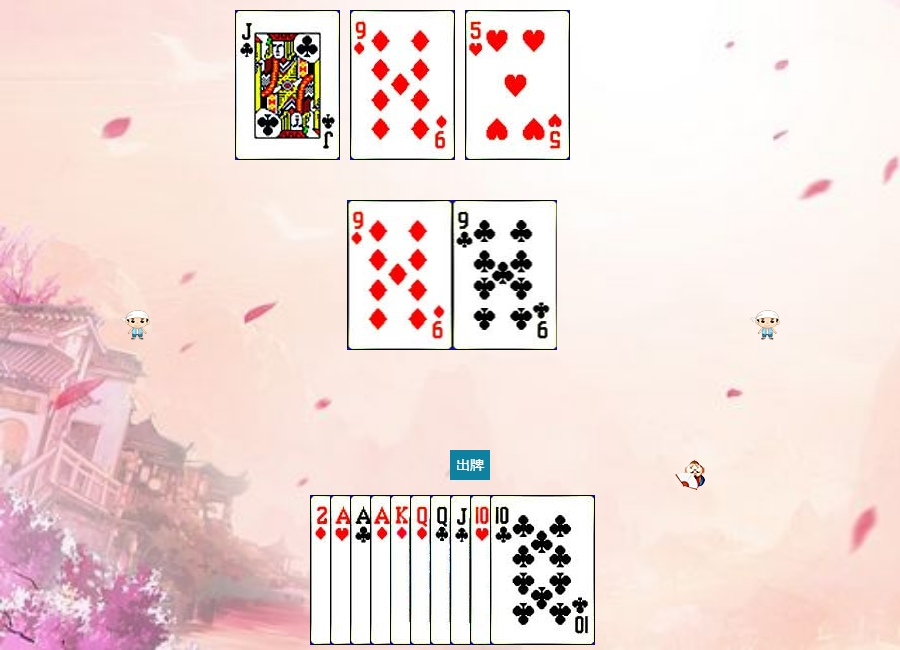10~2: (490, 495, 595, 645)
10~3: (470, 495, 575, 645)
11~2: (235, 10, 340, 160), (450, 495, 555, 645)
12~1: (410, 495, 515, 645)
12~2: (430, 495, 535, 645)
13~1: (390, 495, 495, 645)
14~1: (370, 495, 475, 645)
14~2: (350, 495, 455, 645)
14~3: (330, 495, 435, 645)
15~1: (310, 495, 415, 645)
5~3: (465, 10, 570, 160)
9~1: (350, 10, 455, 160), (348, 200, 453, 350)
9~2: (453, 200, 558, 350)
